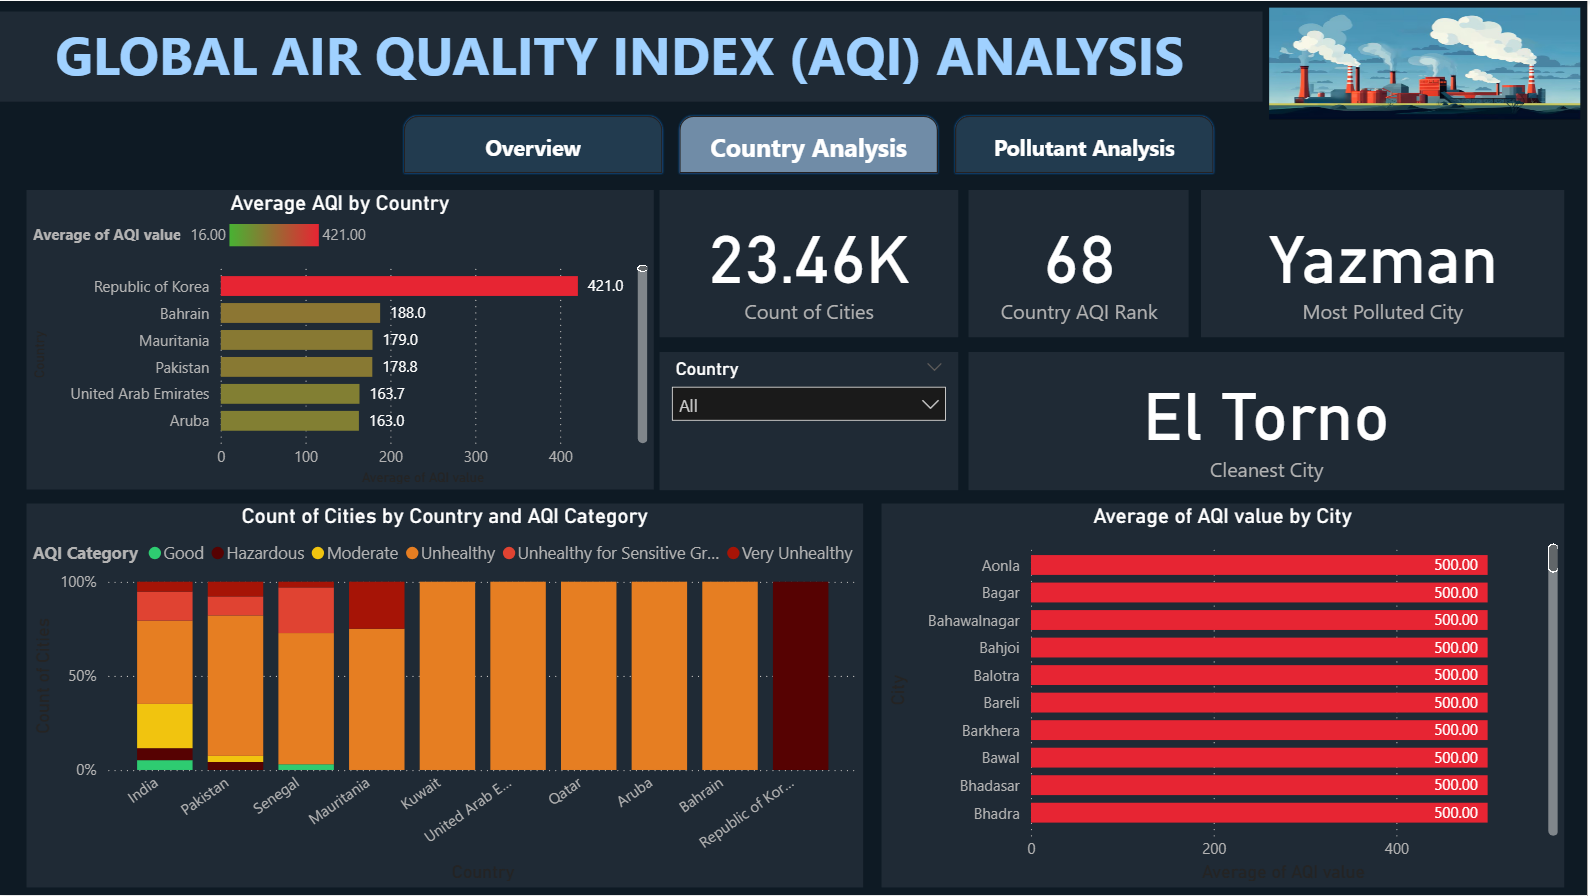

What the dashboard file says about the page in this screenshot:
{"tool":"powerbi","page":{"name":"Country Analysis","canvas":[1280,720],"ordinal":1},"visuals":[{"type":"pageNavigator","box":[325,90.6,656.1,50.7],"z":0},{"type":"image","box":[1018.6,0,261,100.3],"z":1000},{"type":"textbox","box":[0,8.6,1018.4,72.4],"z":2000},{"type":"clusteredBarChart","title":"Average AQI by Country","fields":{"Category":["global_air_pollution_data.country_name"],"Y":["global_air_pollution_data.aqi_value"]},"box":[23,152.2,505.1,241.7],"z":3000},{"type":"slicer","fields":{"Values":["global_air_pollution_data.country_name"]},"box":[532.9,282.7,240.5,111.2],"z":4000},{"type":"hundredPercentStackedColumnChart","fields":{"Category":["global_air_pollution_data.country_name"],"Y":["global_air_pollution_data.city_name"],"Series":["global_air_pollution_data.aqi_category"]},"box":[23,404.8,674.2,309.3],"z":5000},{"type":"card","fields":{"Values":["global_air_pollution_data.city_name"]},"box":[532.9,152.2,240.5,118.4],"z":6000},{"type":"clusteredBarChart","fields":{"Category":["global_air_pollution_data.city_name"],"Y":["global_air_pollution_data.aqi_value"]},"box":[711.7,404.8,549.8,309.3],"z":7000},{"type":"card","fields":{"Values":["calculated_tbl.polluted_city"]},"box":[969.1,152.2,292.4,118.4],"z":8000},{"type":"card","fields":{"Values":["calculated_tbl.clean_city"]},"box":[781.8,282.7,479.7,111.2],"z":9000},{"type":"card","fields":{"Values":["calculated_tbl.Country AQI Rank"]},"box":[781.8,152.2,177.6,118.4],"z":10000}]}

Visuals, with their boxes in screenshot pixels (x1, y1, x2, y2), scaled from the page's 1280x720 canvas onto the 1590x896 screenshot:
pageNavigator: [404,113,1219,176]
image: [1265,0,1589,125]
textbox: [0,11,1265,101]
"Average AQI by Country" clusteredBarChart: [29,189,656,490]
slicer - global_air_pollution_data.country_name: [662,352,961,490]
hundredPercentStackedColumnChart - global_air_pollution_data.country_name x global_air_pollution_data.city_name: [29,504,866,889]
card - global_air_pollution_data.city_name: [662,189,961,337]
clusteredBarChart - global_air_pollution_data.city_name x global_air_pollution_data.aqi_value: [884,504,1567,889]
card - calculated_tbl.polluted_city: [1204,189,1567,337]
card - calculated_tbl.clean_city: [971,352,1567,490]
card - calculated_tbl.Country AQI Rank: [971,189,1192,337]
